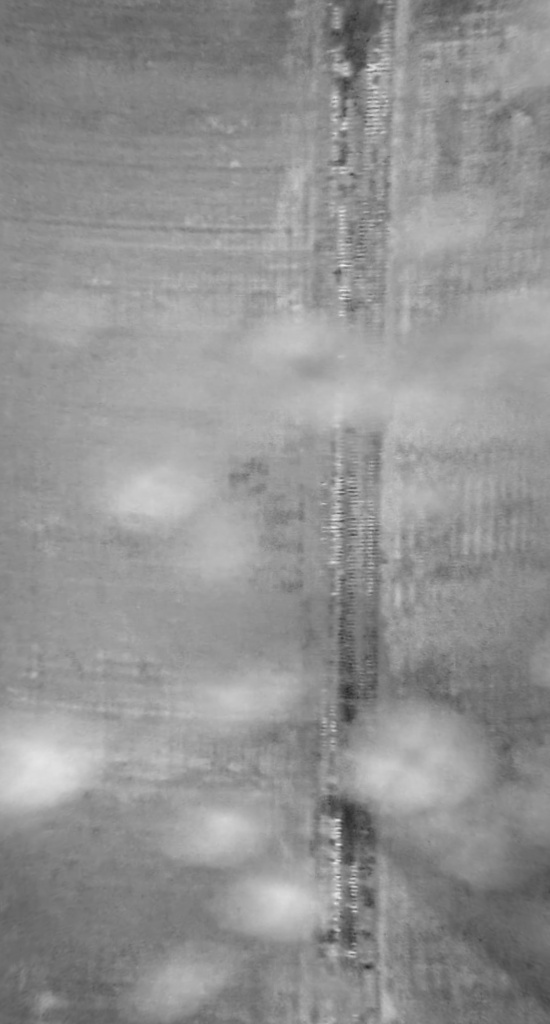splice: (308, 1, 405, 1022)
